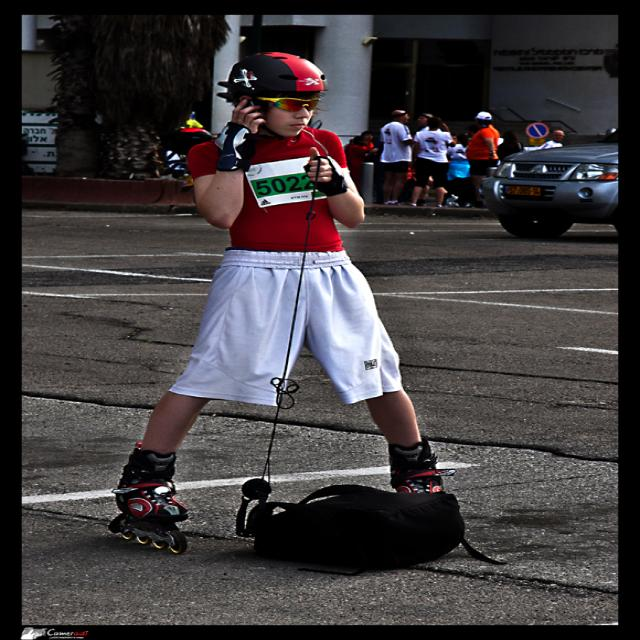Bib: (250, 174, 318, 196)
